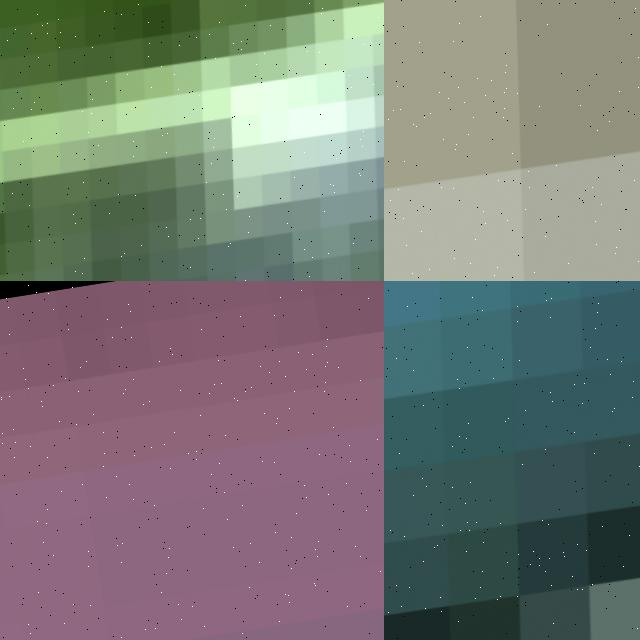drone: (0, 0, 384, 281), (384, 281, 640, 640), (384, 0, 640, 281)
